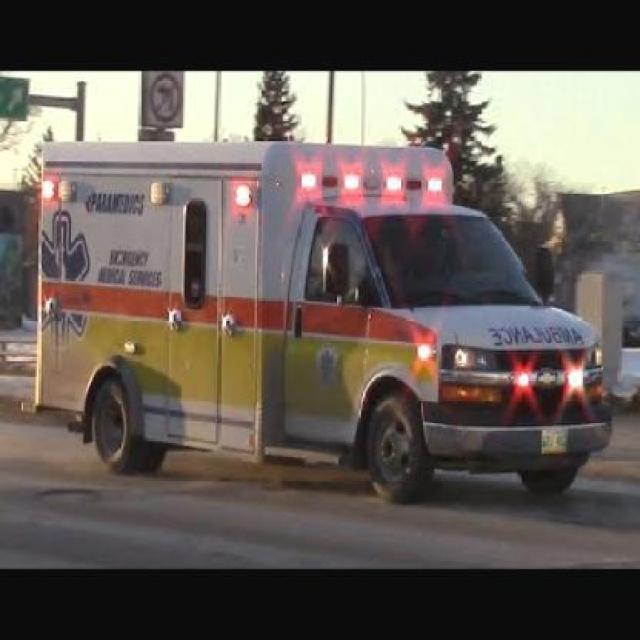emergency: (33, 136, 612, 504)
